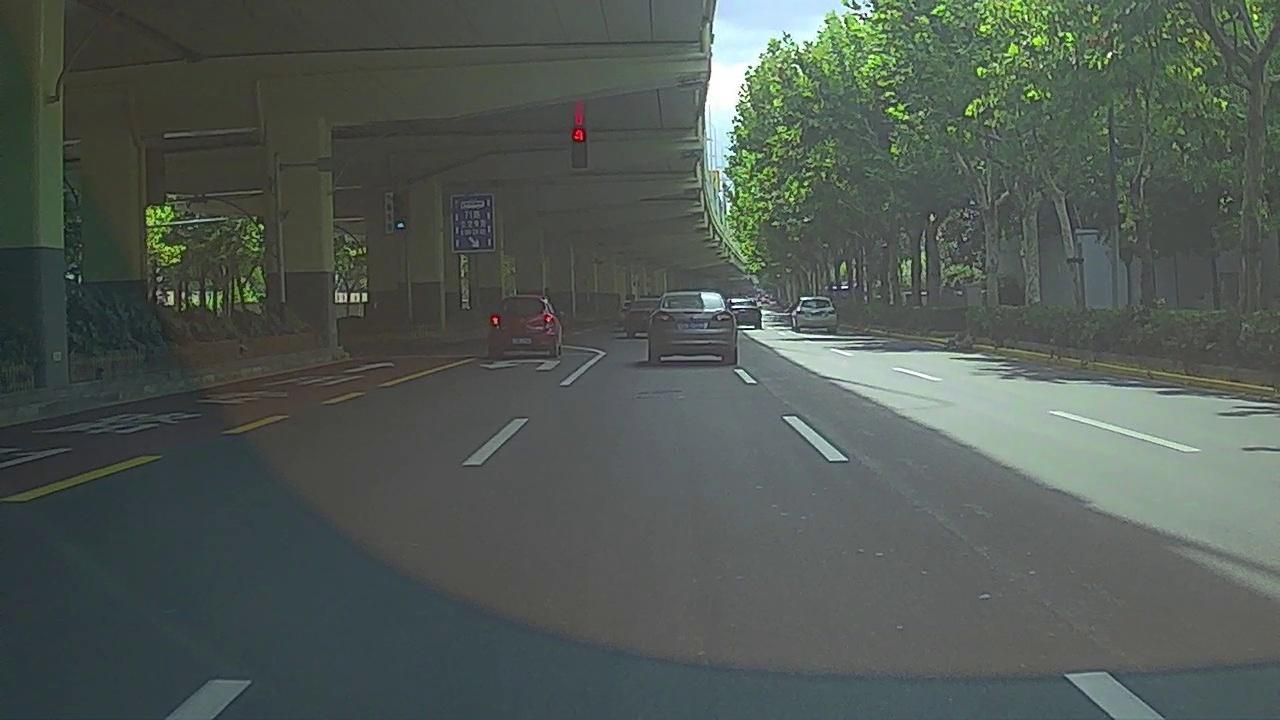traffic_light: (573, 126, 586, 169)
